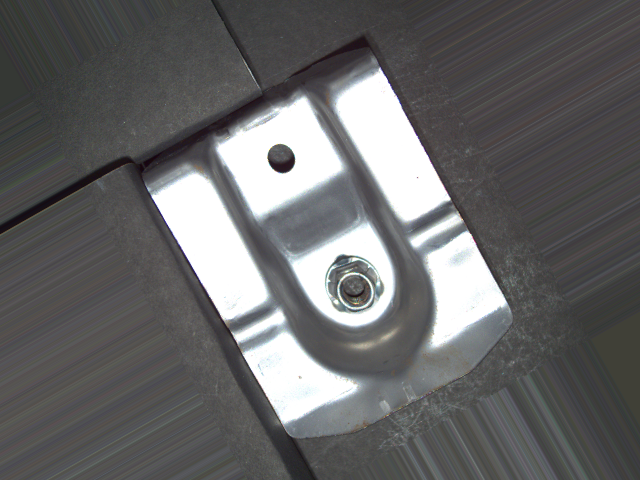good: (322, 253, 388, 322)
